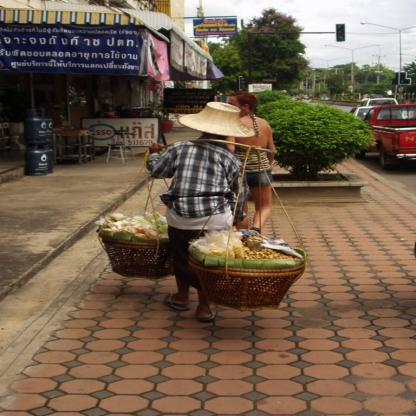Car: (346, 105, 408, 122)
Truck: (350, 104, 415, 173)
